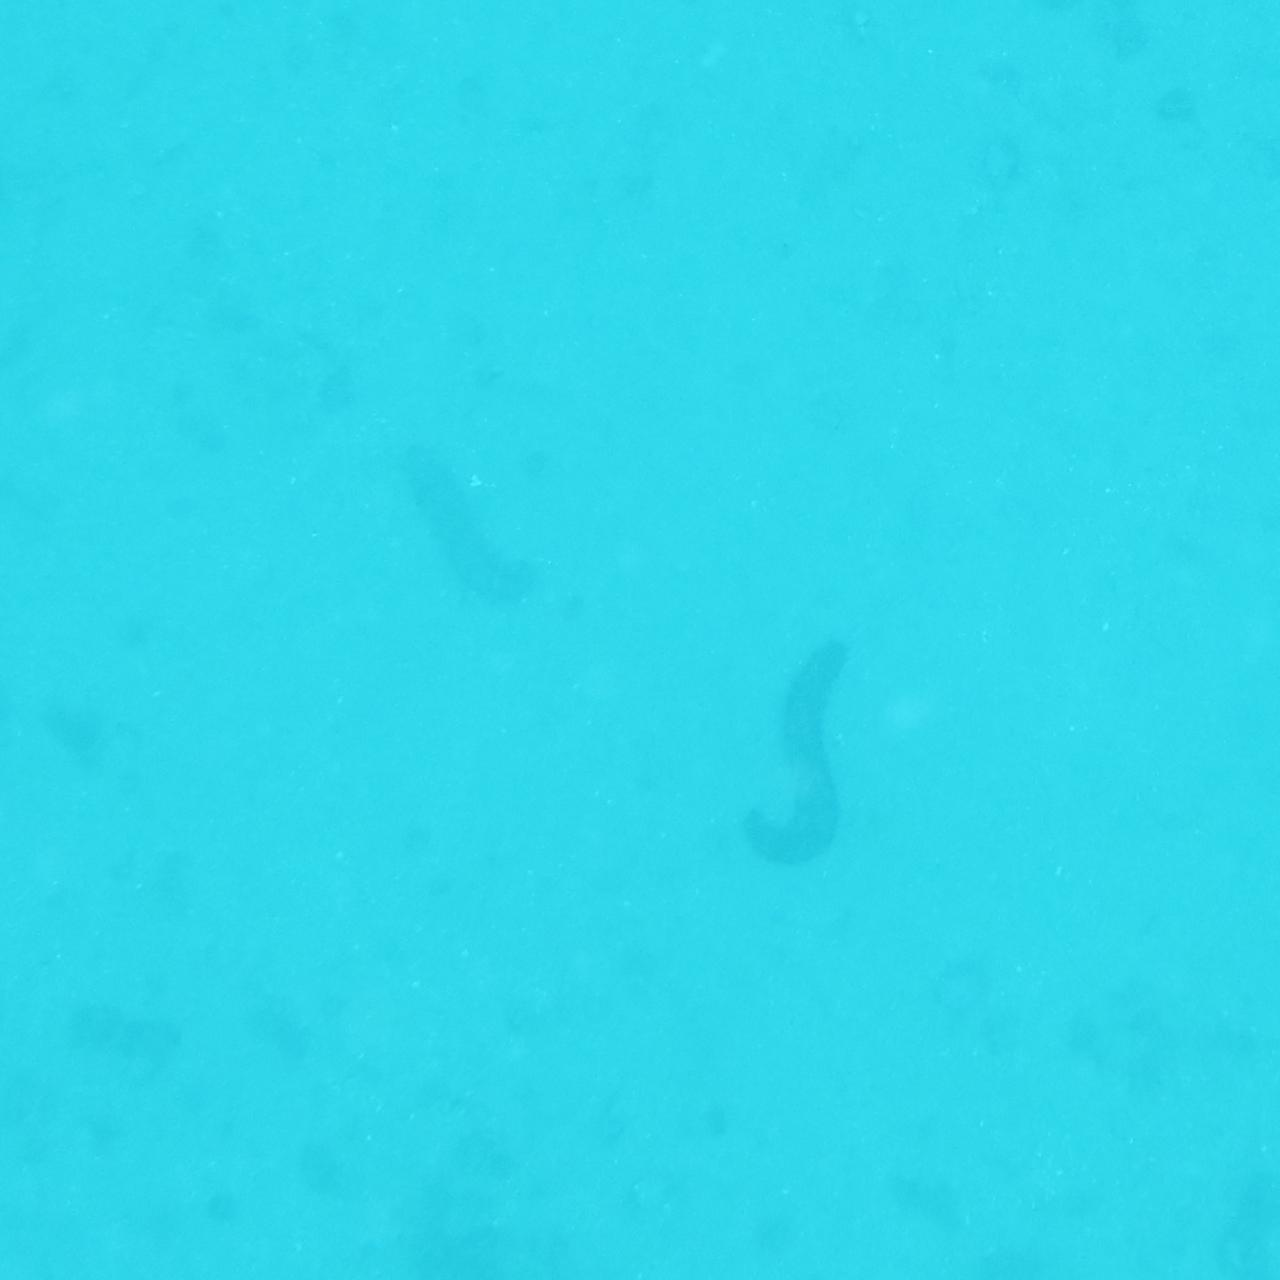Holothuria tubulosa: (730, 615, 881, 888), (400, 443, 551, 615)
